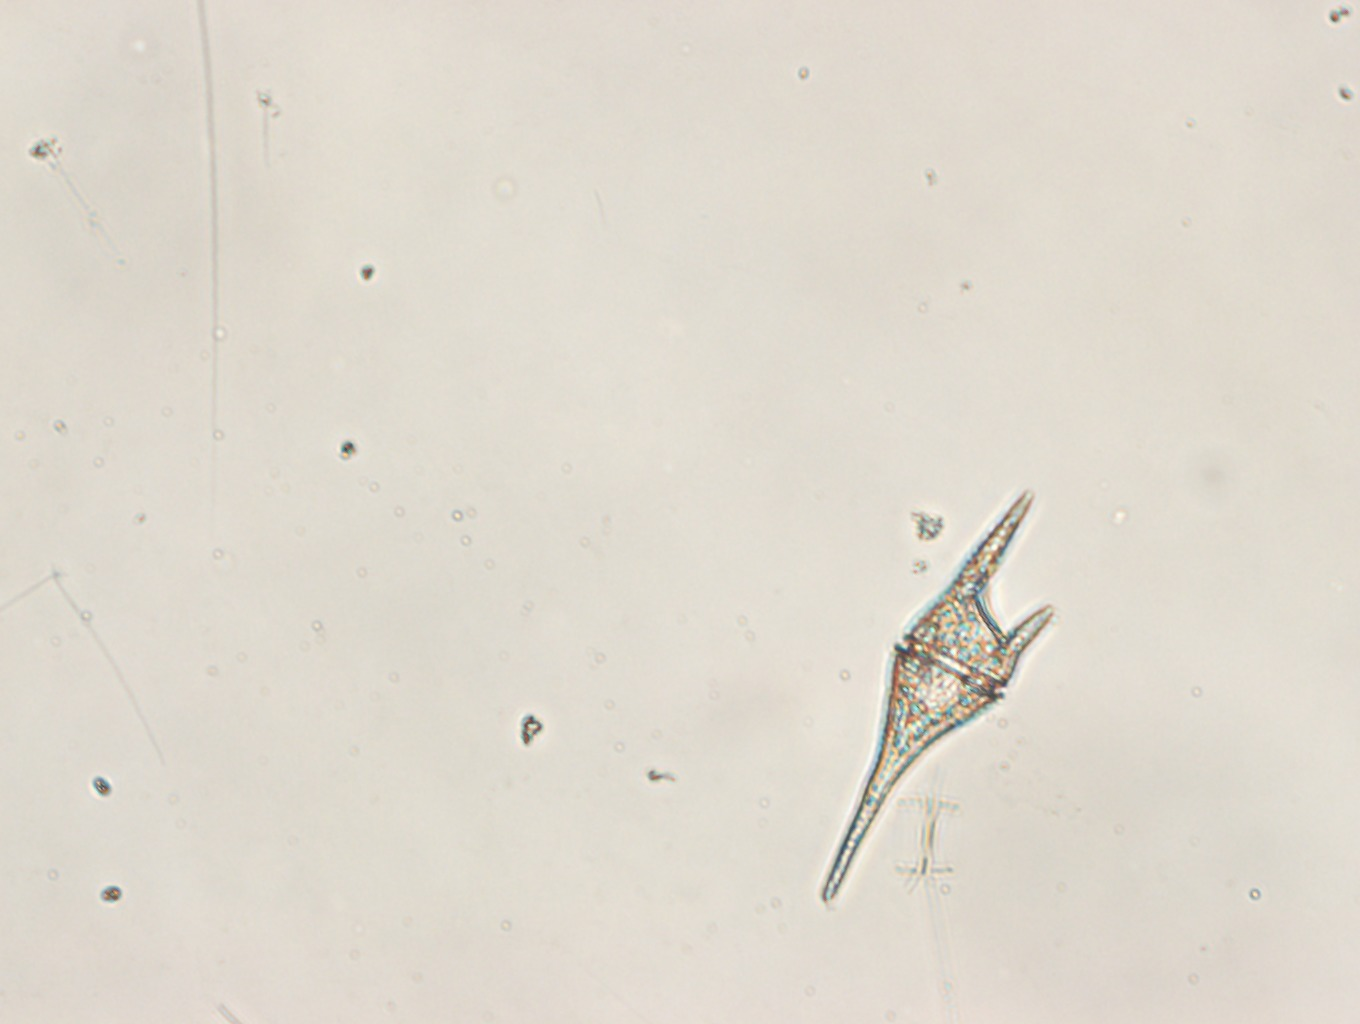ceratium furca: (784, 486, 1057, 905)
